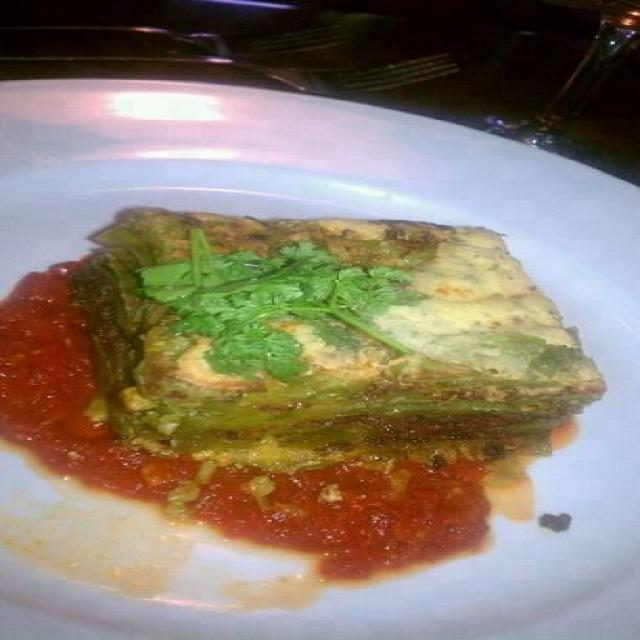Lasagna: (52, 185, 621, 531)
